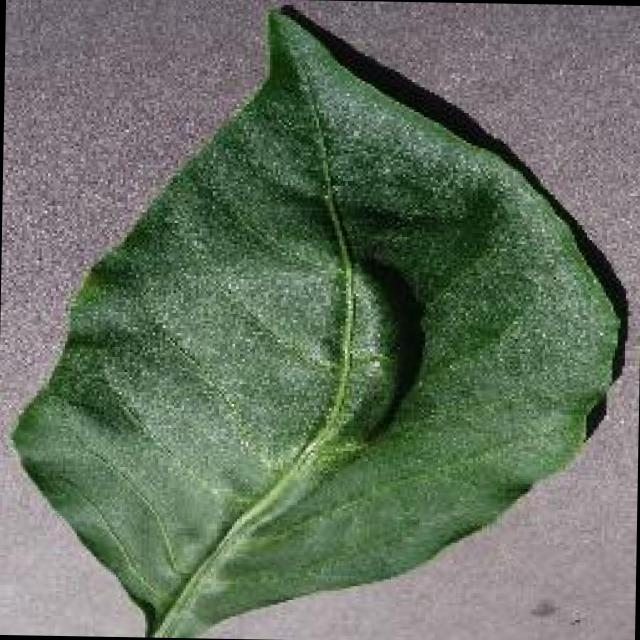Chilli_Healthy: (5, 0, 633, 640)
